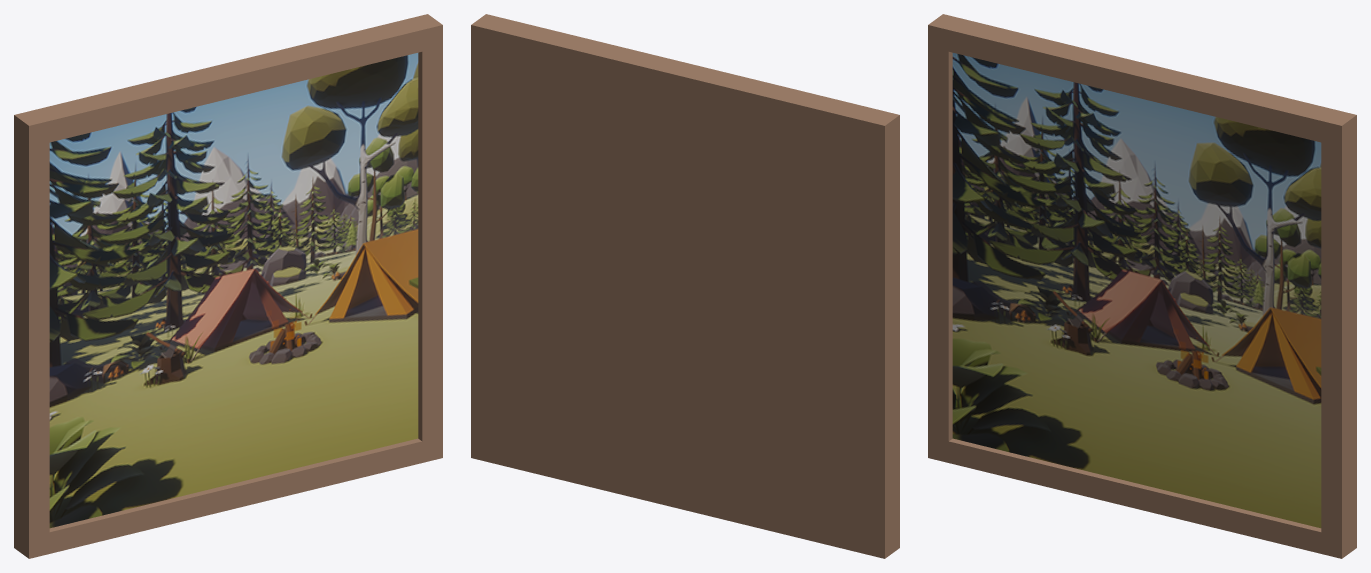
Rendered from Painting_21.fbx.
The picture shows the model from 3 angles, left to right: view 1: azimuth 30°, elevation 25°; view 2: azimuth 150°, elevation 25°; view 3: azimuth 330°, elevation 25°; orthographic projection.
Parts seen in each view (by area): view 1: Painting_21; view 2: Painting_21; view 3: Painting_21.
Boxes of the visible parts, x1,y1,x2,y2 form: Painting_21: (14,14,442,558); Painting_21: (471,14,899,558); Painting_21: (928,14,1356,558).
Bounding box in the file's own units: 50 × 50 × 3.14.
